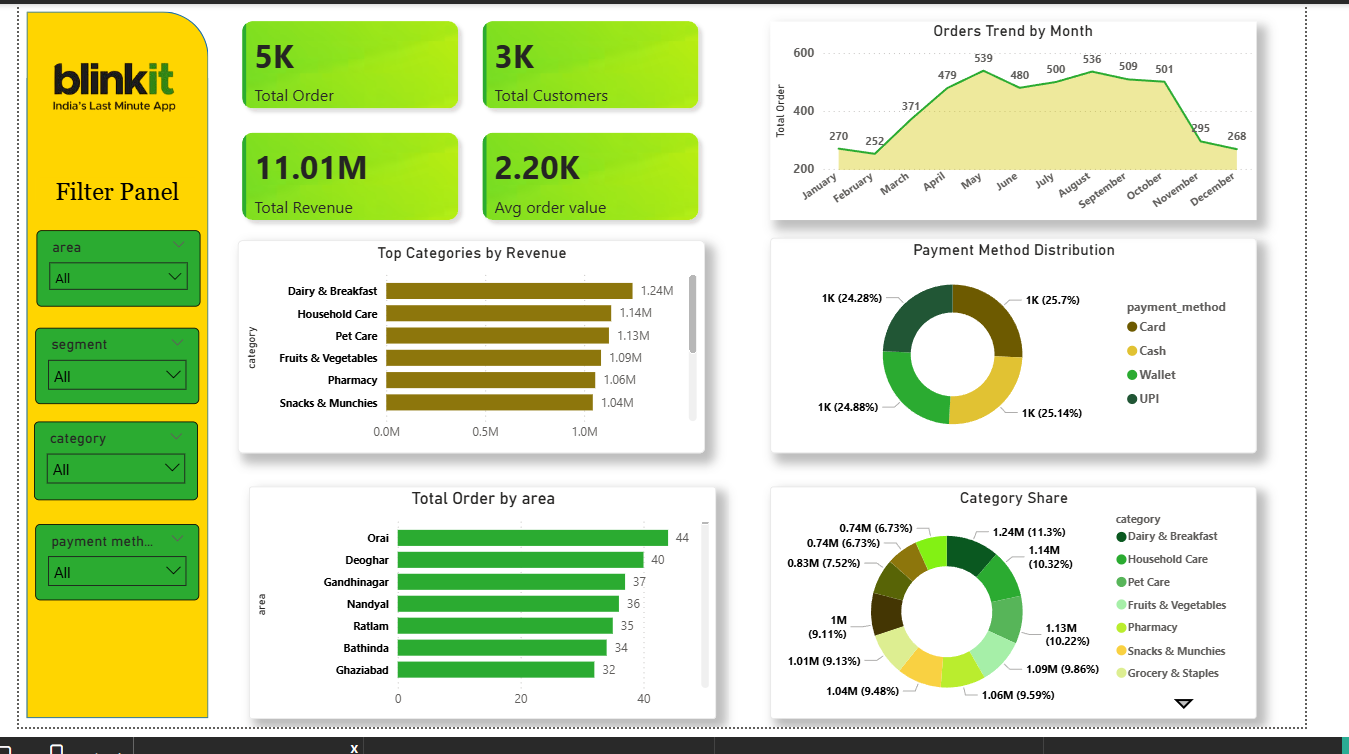

What the dashboard file says about the page in this screenshot:
{"tool":"powerbi","page":{"name":"Page 1","canvas":[1280,720],"ordinal":0},"visuals":[{"type":"shape","box":[7.8,7.8,181.1,703.3],"z":0},{"type":"image","box":[0,0,188.9,165.6],"z":1000},{"type":"textbox","title":"Filter Panel","box":[16.7,173.3,163.3,24.4],"z":2000},{"type":"cardVisual","fields":{"Data":["blinkit_orders.Total Order","blinkit_orders.Total Customers","blinkit_orders.Total Revenue","blinkit_orders.Avg order value"]},"box":[205,0,488.7,232.4],"z":3000},{"type":"lineChart","title":"Orders Trend by Month","fields":{"Category":["blinkit_orders.order_date.Variation.Date Hierarchy.Month"],"Y":["blinkit_orders.Total Order"]},"box":[747.4,17.9,484,197.9],"z":4000},{"type":"barChart","title":"Top Categories by Revenue","fields":{"Y":["blinkit_orders.Total Revenue"],"Category":["blinkit_products.category"]},"box":[217.2,235.1,464.9,212],"z":5000},{"type":"barChart","fields":{"Y":["blinkit_orders.Total Order"],"Category":["blinkit_customers.area"]},"box":[228.9,480.4,464.9,231.3],"z":6000},{"type":"slicer","fields":{"Values":["blinkit_customers.area"]},"box":[17.9,225.3,163.3,76.3],"z":7000},{"type":"slicer","fields":{"Values":["blinkit_customers.customer_segment"]},"box":[16.7,321.8,163.3,76.3],"z":8000},{"type":"slicer","fields":{"Values":["blinkit_products.category"]},"box":[15.5,416,163.3,78.7],"z":9000},{"type":"slicer","fields":{"Values":["blinkit_orders.payment_method"]},"box":[16.7,517.3,163.3,76.3],"z":10000},{"type":"donutChart","title":"Category Share","fields":{"Y":["blinkit_orders.Total Revenue"],"Category":["blinkit_products.category"]},"box":[747.4,480.4,484,231.3],"z":11000},{"type":"donutChart","title":"Payment Method Distribution","fields":{"Y":["blinkit_orders.Total Order"],"Category":["blinkit_orders.payment_method"]},"box":[747.4,232.4,484,214.6],"z":12000}]}

Visuals, with their boxes on the page's 1280x720 design canvas (x1, y1, x2, y2). These are canvas units, not pixel positions in the 1349x754 screenshot, which may show the page scaled, cropped or inside an application window:
shape: BBox(8, 8, 189, 711)
image: BBox(0, 0, 189, 166)
"Filter Panel" textbox: BBox(17, 173, 180, 198)
cardVisual - blinkit_orders.Total Order x blinkit_orders.Total Customers: BBox(205, 0, 694, 232)
"Orders Trend by Month" lineChart: BBox(747, 18, 1231, 216)
"Top Categories by Revenue" barChart: BBox(217, 235, 682, 447)
barChart - blinkit_orders.Total Order x blinkit_customers.area: BBox(229, 480, 694, 712)
slicer - blinkit_customers.area: BBox(18, 225, 181, 302)
slicer - blinkit_customers.customer_segment: BBox(17, 322, 180, 398)
slicer - blinkit_products.category: BBox(16, 416, 179, 495)
slicer - blinkit_orders.payment_method: BBox(17, 517, 180, 594)
"Category Share" donutChart: BBox(747, 480, 1231, 712)
"Payment Method Distribution" donutChart: BBox(747, 232, 1231, 447)
